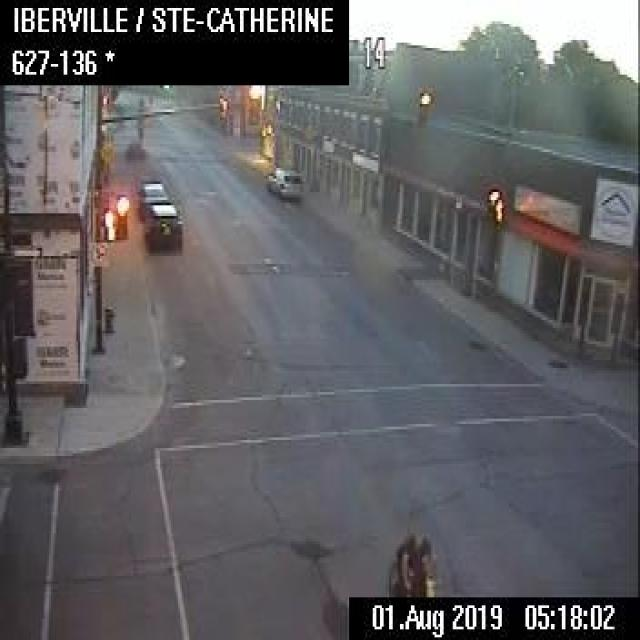cyclist: (389, 530, 438, 594)
vehicle: (140, 199, 182, 256), (264, 165, 304, 200), (134, 177, 166, 210)
